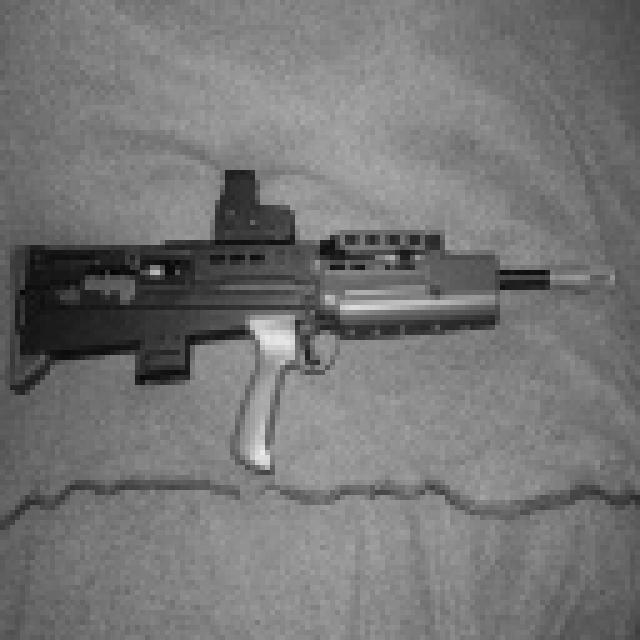Rifle: (0, 145, 637, 523)
